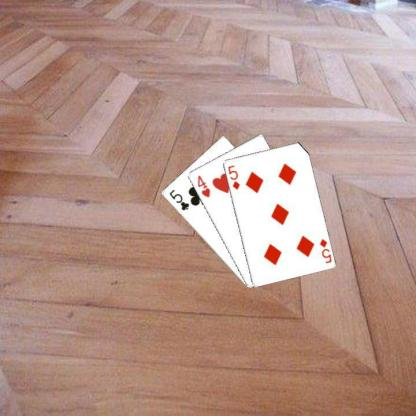4H: (194, 173, 212, 199)
5C: (166, 186, 190, 212)
5D: (225, 162, 241, 191), (316, 236, 332, 264)
